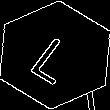L_NE: (25, 25, 85, 85)
